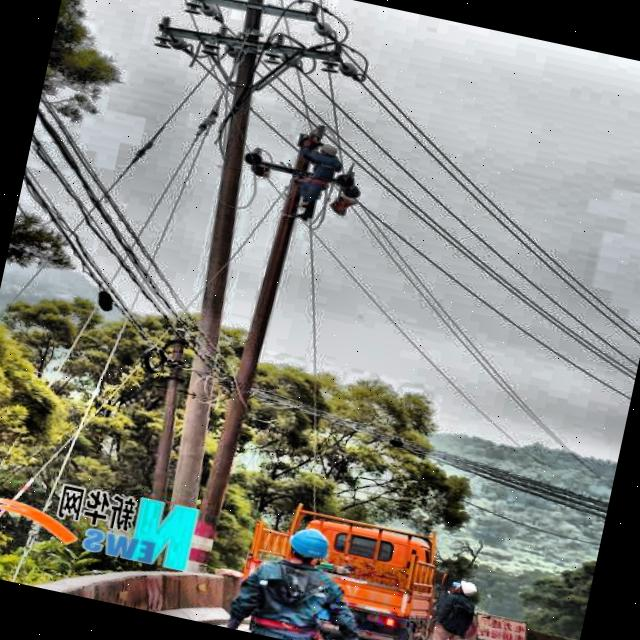helmet: (279, 516, 351, 574), (446, 574, 484, 604), (310, 138, 340, 162)
